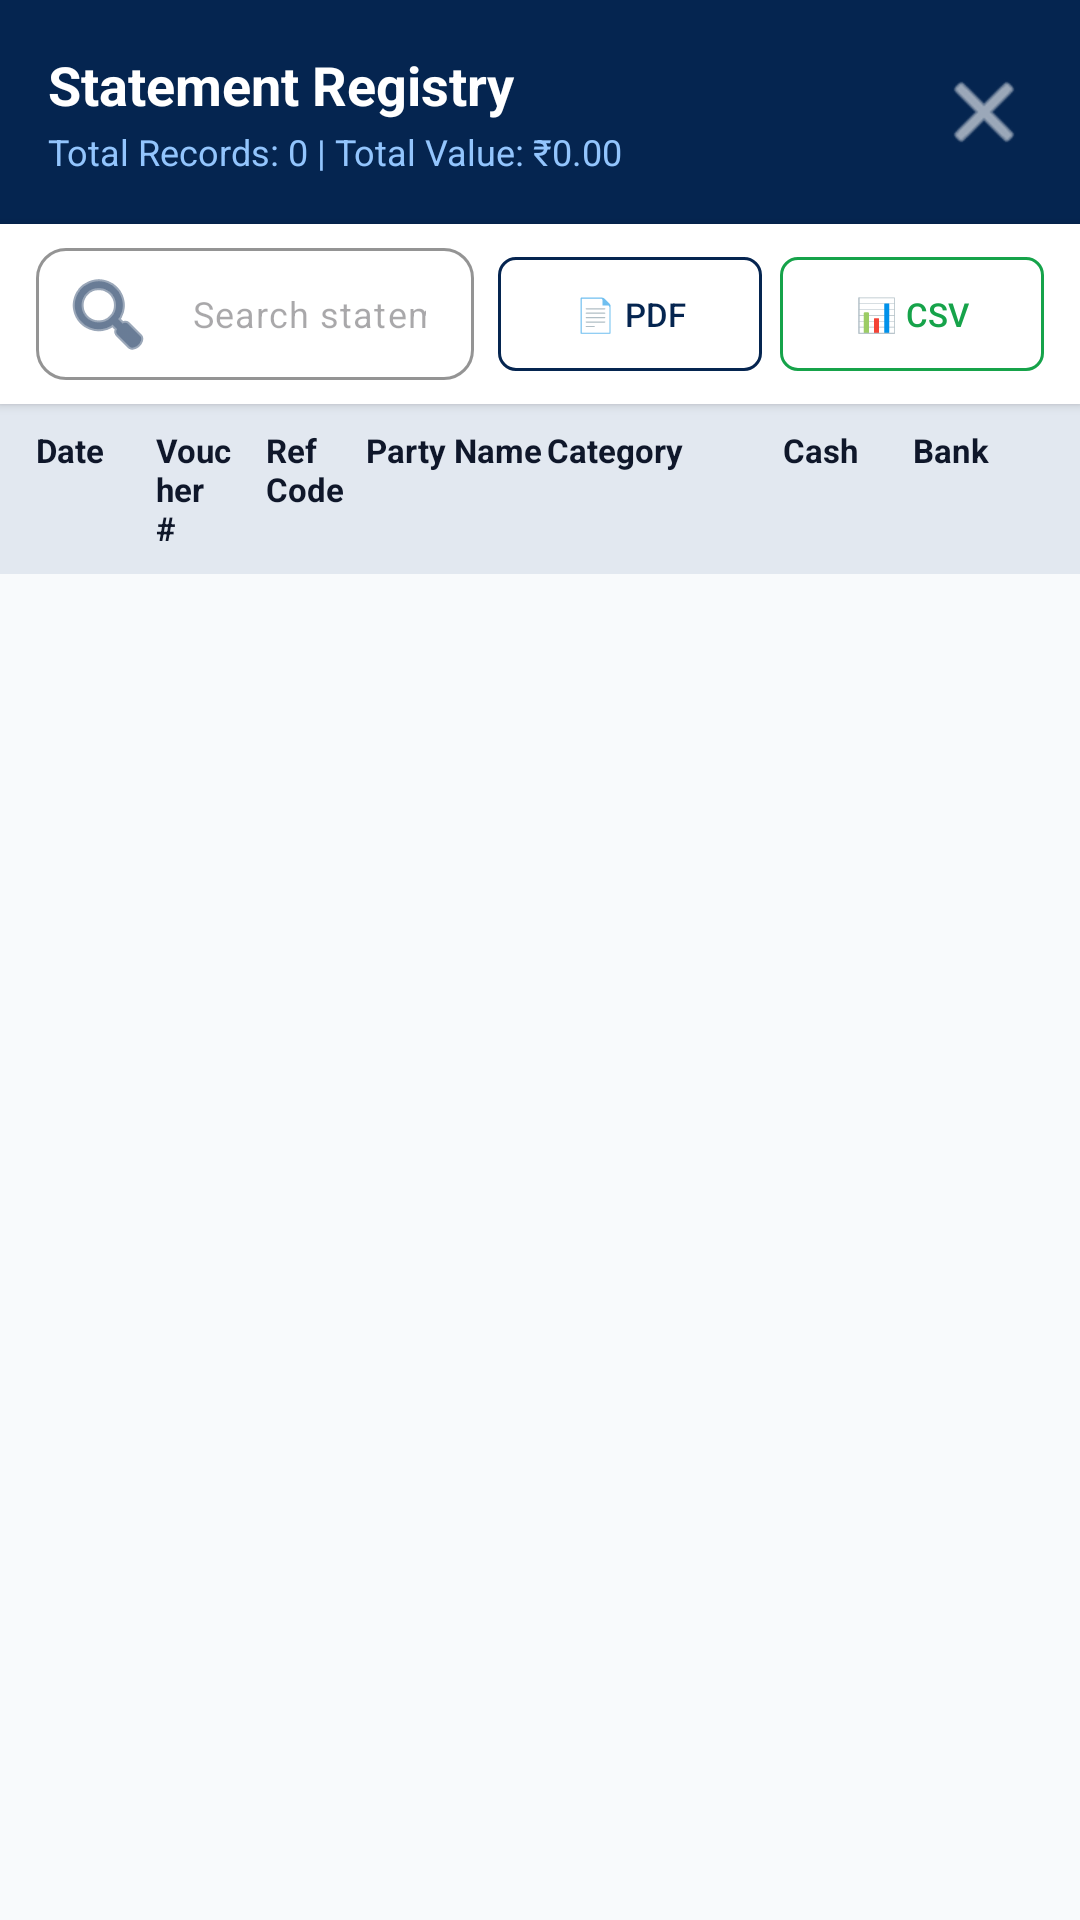

Icon bounding boxes for this 1080×1920 phone screenshot, format (x1, y1, x2, y2):
close clear cancel: (954, 82, 1014, 142)
